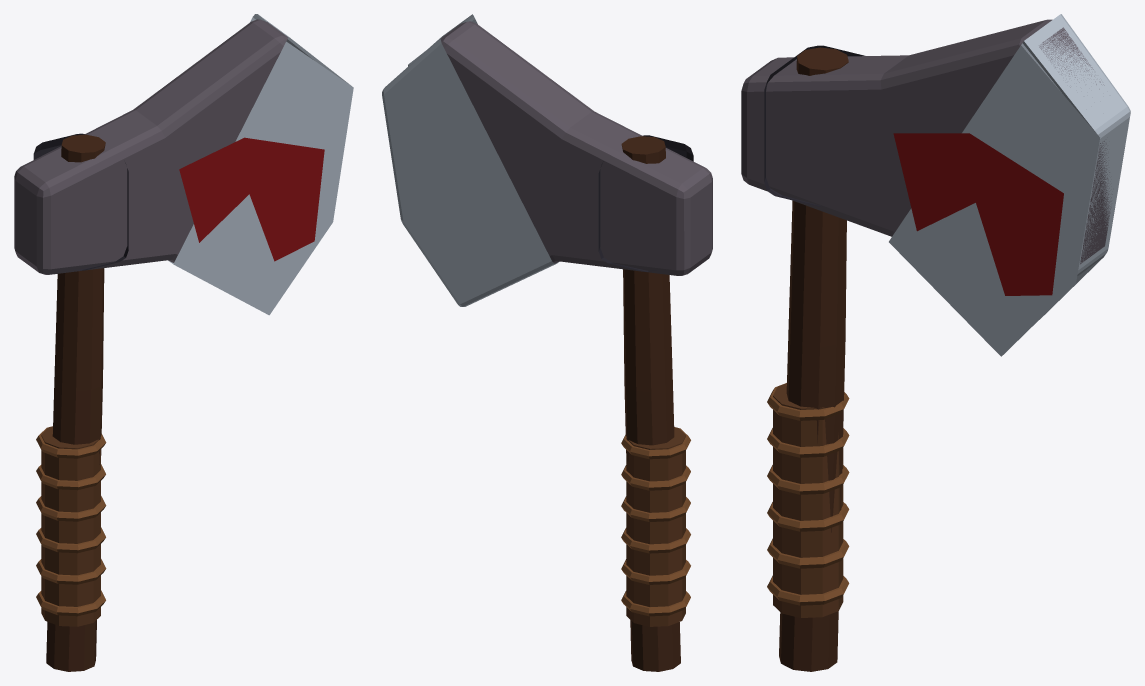
The model's file is evil_axe_offhand.glb.
3 renders of one model, left to right at view 1: azimuth 30°, elevation 25°; view 2: azimuth 150°, elevation 25°; view 3: azimuth 330°, elevation 25°, orthographic. The views are drawn at different scales.
Visible parts, largest first — view 1: Forged crescent axe blade.001, Sharpened axe cutting edge.001, Axe ash handle.001, Crimson axe blade motif, Leather axe grip.001, Grip wrapping.011, Grip wrapping.009, Grip wrapping.006, Grip wrapping.007, Grip wrapping.008, Grip wrapping.010, Iron axe socket.001; view 2: Forged crescent axe blade.001, Sharpened axe cutting edge.001, Axe ash handle.001, Leather axe grip.001, Iron axe socket.001, Grip wrapping.011, Grip wrapping.007, Grip wrapping.008, Grip wrapping.010, Grip wrapping.009, Grip wrapping.006; view 3: Forged crescent axe blade.001, Sharpened axe cutting edge.001, Axe ash handle.001, Crimson axe blade motif, Leather axe grip.001, Grip wrapping.007, Grip wrapping.006, Grip wrapping.008, Grip wrapping.009, Grip wrapping.011, Grip wrapping.010, Iron axe socket.001.
Part boxes in pixels (x1,y1,x2,y2): Forged crescent axe blade.001: (14,19,287,274); Sharpened axe cutting edge.001: (168,14,353,315); Axe ash handle.001: (46,134,105,671); Crimson axe blade motif: (179,137,324,261); Leather axe grip.001: (41,426,100,626); Grip wrapping.011: (36,427,106,458); Grip wrapping.009: (36,496,106,521); Grip wrapping.006: (36,590,105,616); Grip wrapping.007: (36,559,106,584); Grip wrapping.008: (36,527,105,553); Grip wrapping.010: (36,464,105,490); Iron axe socket.001: (33,133,128,270); Forged crescent axe blade.001: (440,21,712,275); Sharpened axe cutting edge.001: (382,14,559,306); Axe ash handle.001: (621,136,680,671); Leather axe grip.001: (626,427,685,626); Iron axe socket.001: (598,135,693,271); Grip wrapping.011: (621,428,690,459); Grip wrapping.007: (621,559,690,584); Grip wrapping.008: (621,528,690,553); Grip wrapping.010: (621,465,690,490); Grip wrapping.009: (621,496,690,521); Grip wrapping.006: (621,591,690,616); Forged crescent axe blade.001: (741,19,1112,264); Sharpened axe cutting edge.001: (889,14,1130,356); Axe ash handle.001: (779,47,848,671); Crimson axe blade motif: (893,133,1063,295); Leather axe grip.001: (773,383,843,617); Grip wrapping.007: (767,538,849,568); Grip wrapping.006: (767,575,849,605); Grip wrapping.008: (767,502,849,531); Grip wrapping.009: (767,465,849,494); Grip wrapping.011: (767,383,849,420); Grip wrapping.010: (767,428,849,457); Iron axe socket.001: (764,45,864,206).
Size of the model in its own units: 0.6196 by 1.12 by 0.16.
